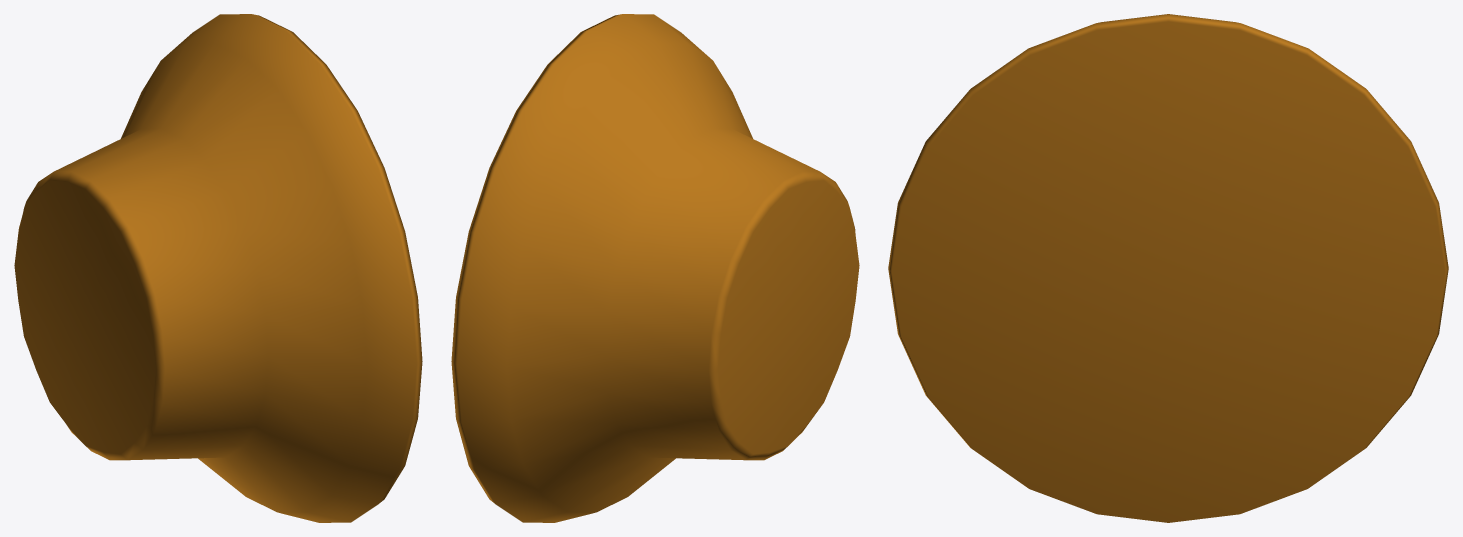
Rendered from Plunger_Handle.fbx.
3 renders of one model, left to right at view 1: azimuth 30°, elevation 25°; view 2: azimuth 150°, elevation 25°; view 3: azimuth 270°, elevation 25°, orthographic. The views are drawn at different scales.
Visible parts, largest first — view 1: Plunger_Handle; view 2: Plunger_Handle; view 3: Plunger_Handle.
Boxes of the visible parts, x1=… form: Plunger_Handle: x1=14, y1=14, x2=422, y2=522; Plunger_Handle: x1=451, y1=14, x2=859, y2=522; Plunger_Handle: x1=888, y1=14, x2=1448, y2=522.
Bounding box in the file's own units: 2.04 × 4.07 × 4.07.
